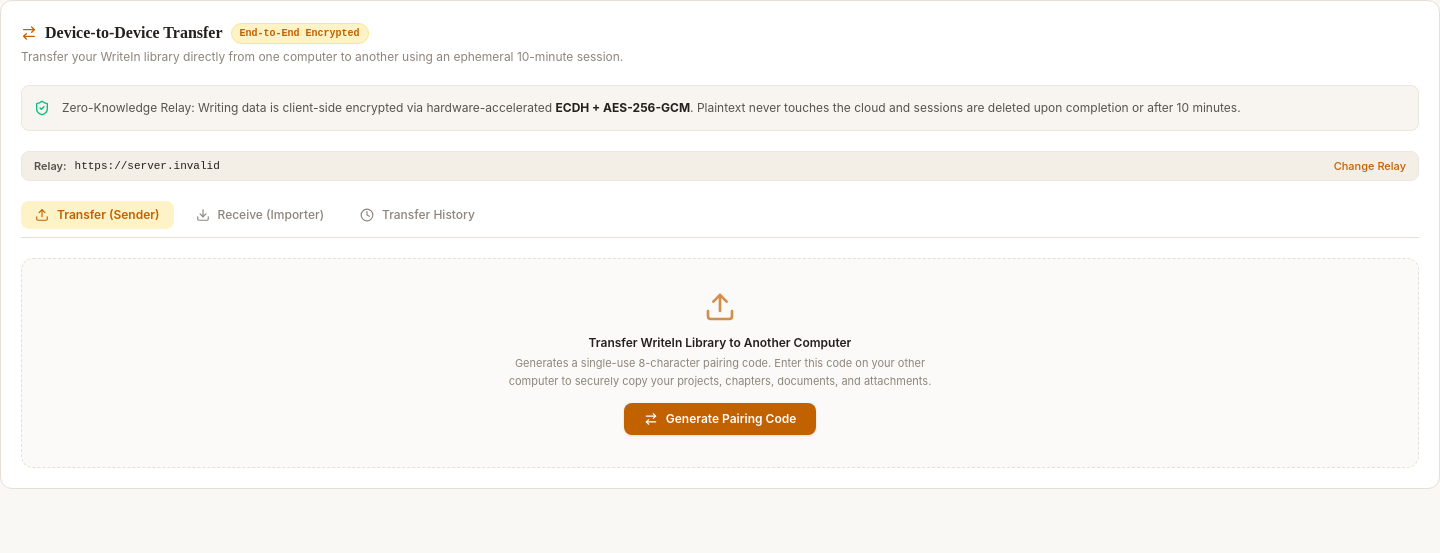
Test case: DeviceTransferView › shows the SAS and allows cancellation while waiting without applying a late preview
Click the button "Receive (Importer)" at (260, 215), box [182,201,338,229]
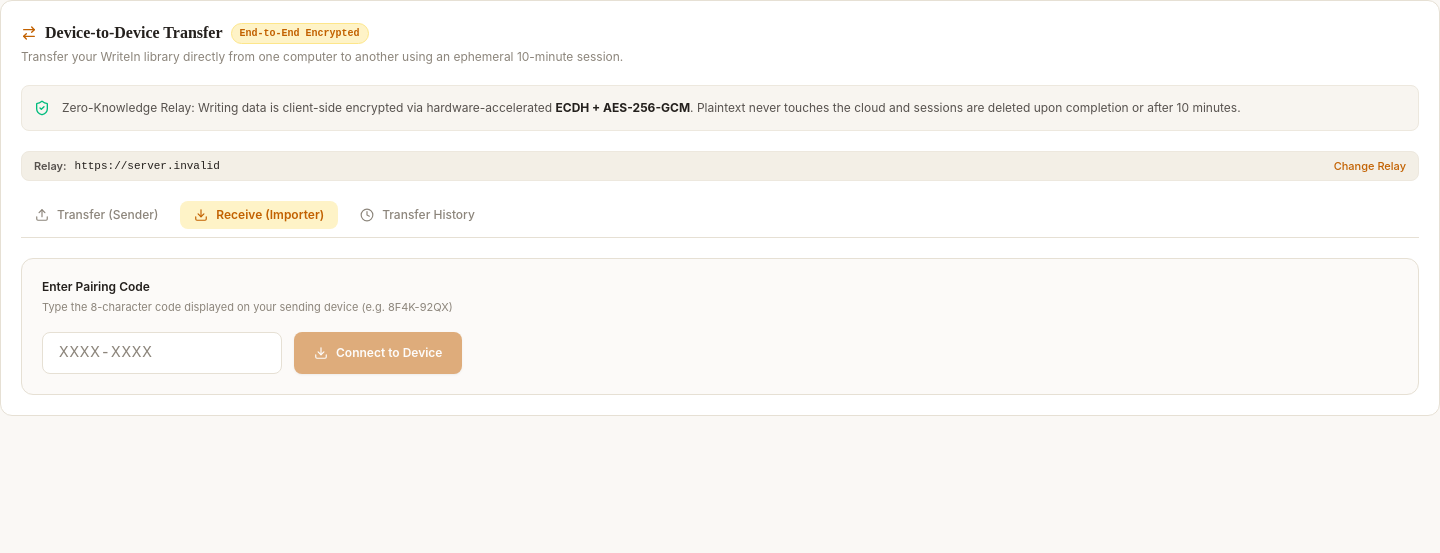
Type "PAIR-CODE" into the field with placeholder "XXXX-XXXX" at (162, 352), box [42,332,282,374]
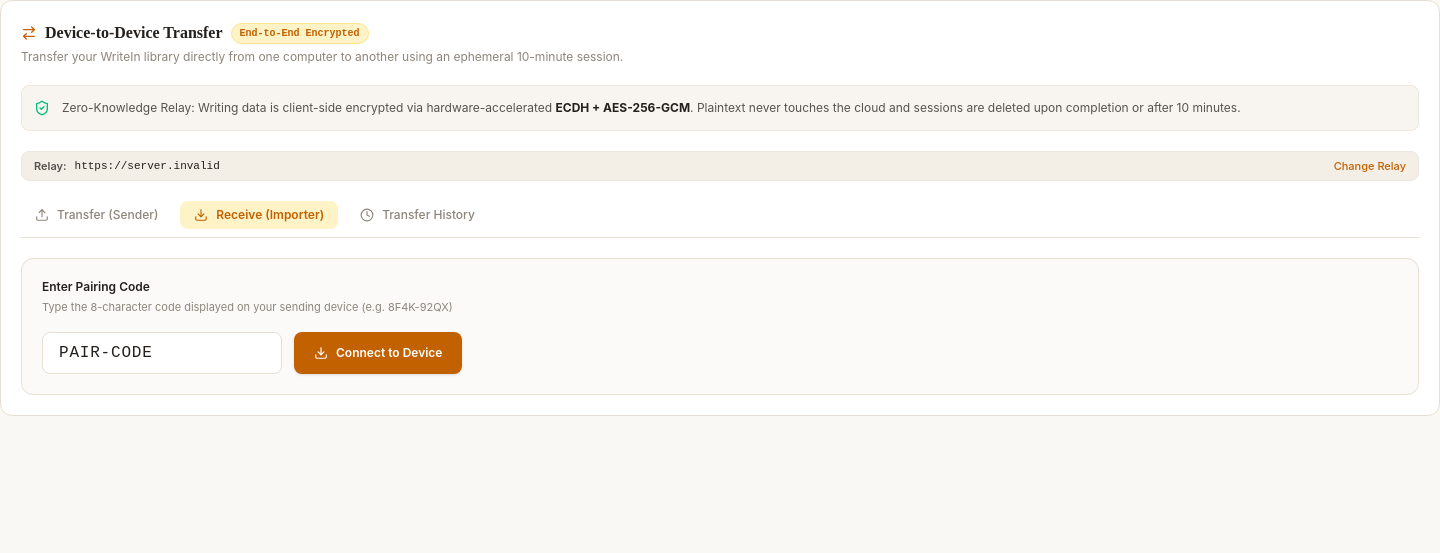
Click the button "Connect to Device" at (378, 352), box [294,332,462,374]
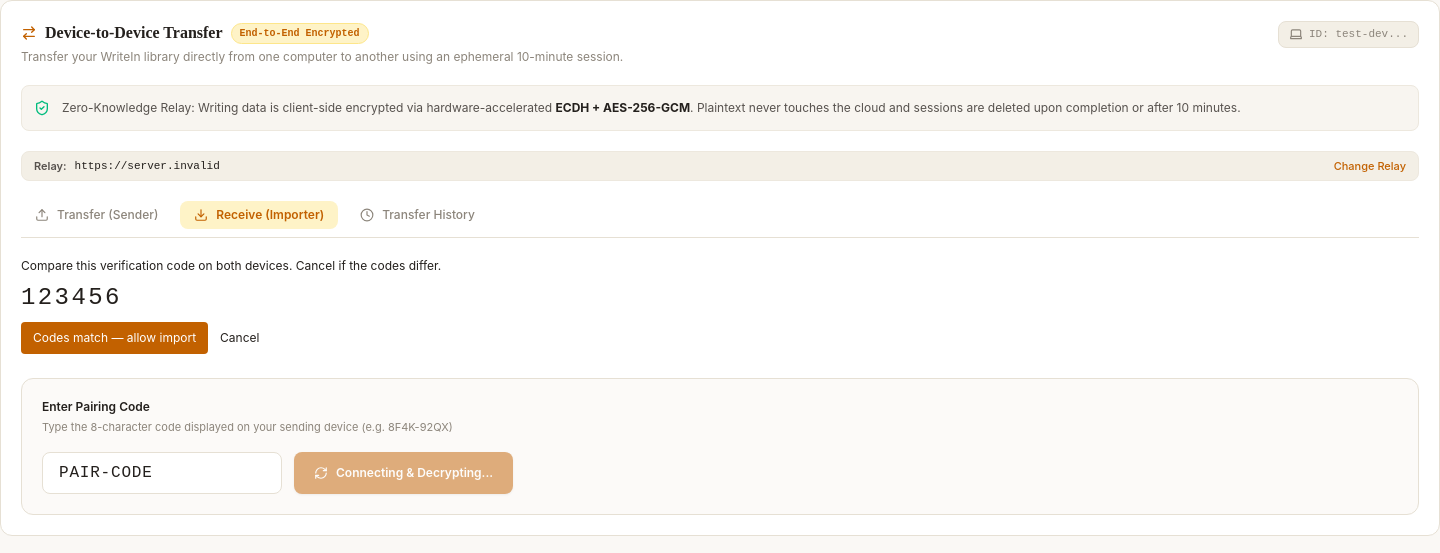
Result: the text "123456" is shown at [21,284,122,311]
Result: the button "Cancel" is enabled
Click the button "Cancel" at (240, 338), box [208,322,272,354]
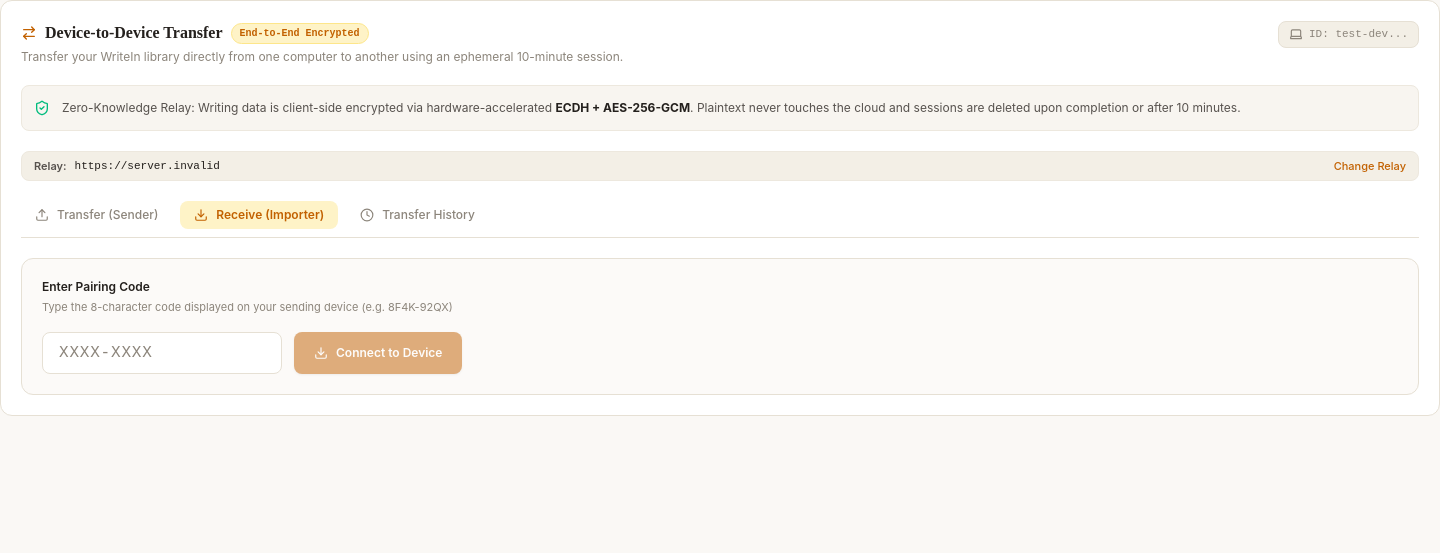
Result: the text "123456" is gone
